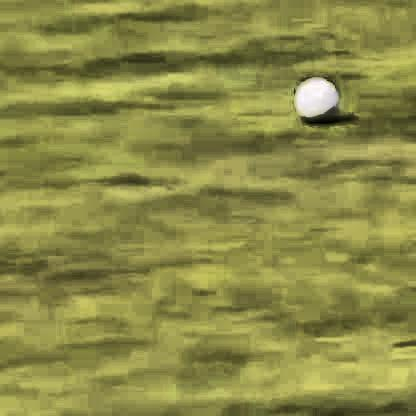golfball: (291, 74, 336, 122)
